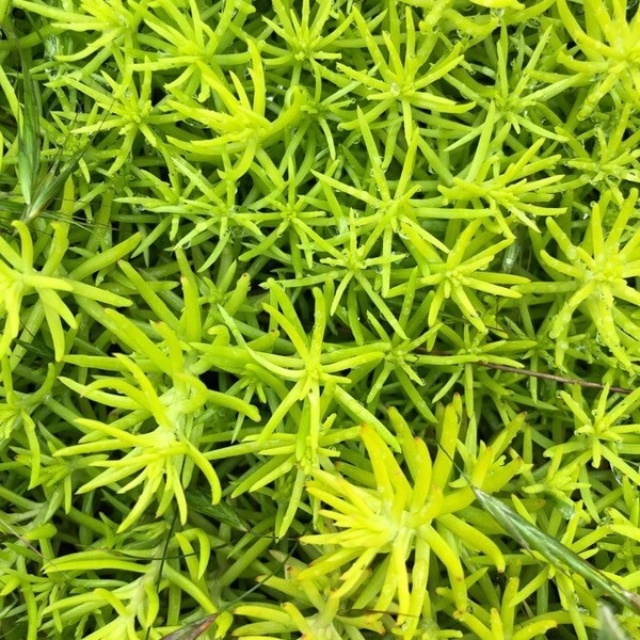obstacle: (43, 25, 564, 596)
